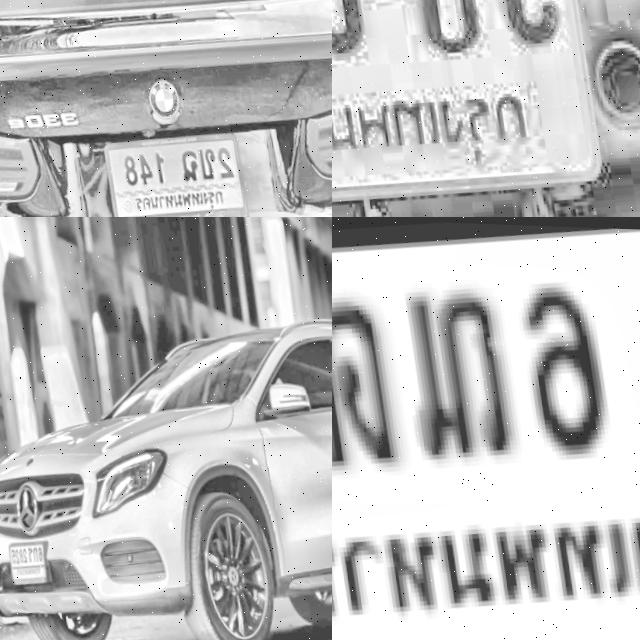license-plate: (332, 217, 640, 640), (332, 0, 605, 217), (97, 118, 248, 217), (0, 533, 47, 591)
